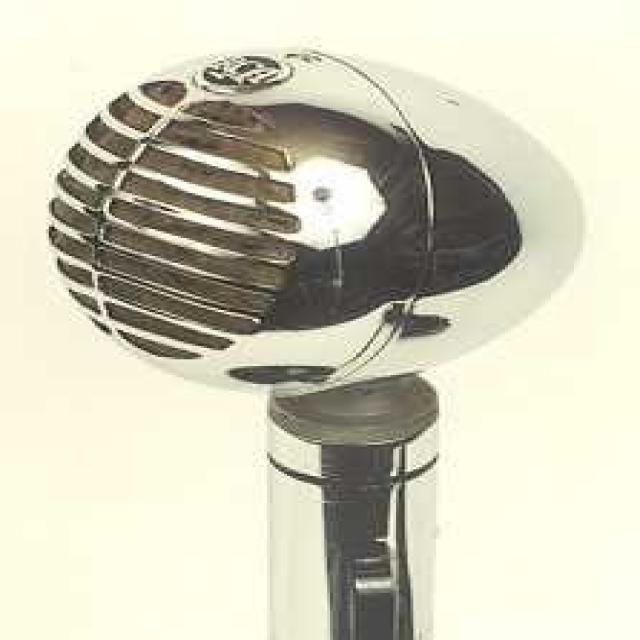microphone: (56, 46, 591, 346)
